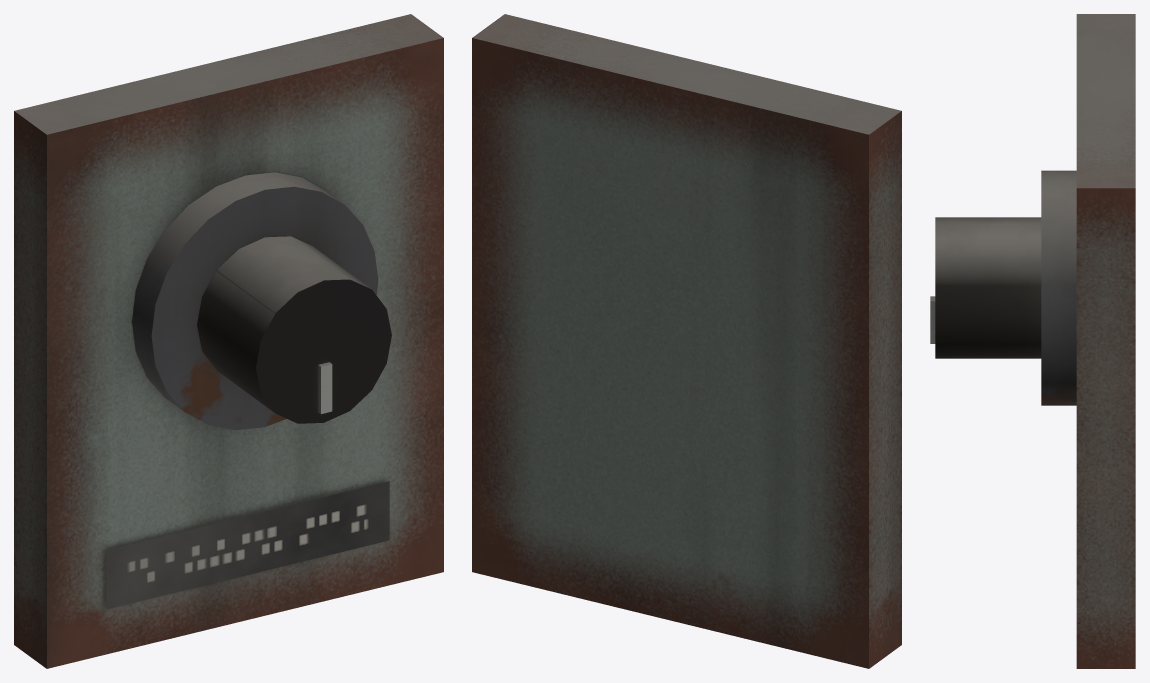
Rendered from SM_Knob_Rotary.fbx.
3 renders of one model, left to right at view 1: azimuth 30°, elevation 25°; view 2: azimuth 150°, elevation 25°; view 3: azimuth 270°, elevation 25°, orthographic. The views are drawn at different scales.
Visible parts, largest first — view 1: SM_Knob_Rotary; view 2: SM_Knob_Rotary; view 3: SM_Knob_Rotary.
Part boxes in pixels (bbox=[...]): SM_Knob_Rotary: bbox=[14, 14, 443, 668]; SM_Knob_Rotary: bbox=[472, 14, 901, 668]; SM_Knob_Rotary: bbox=[930, 14, 1135, 668].
Bounding box in the file's own units: 0.07 × 0.09 × 0.0348.
1 material, 1 textured.
